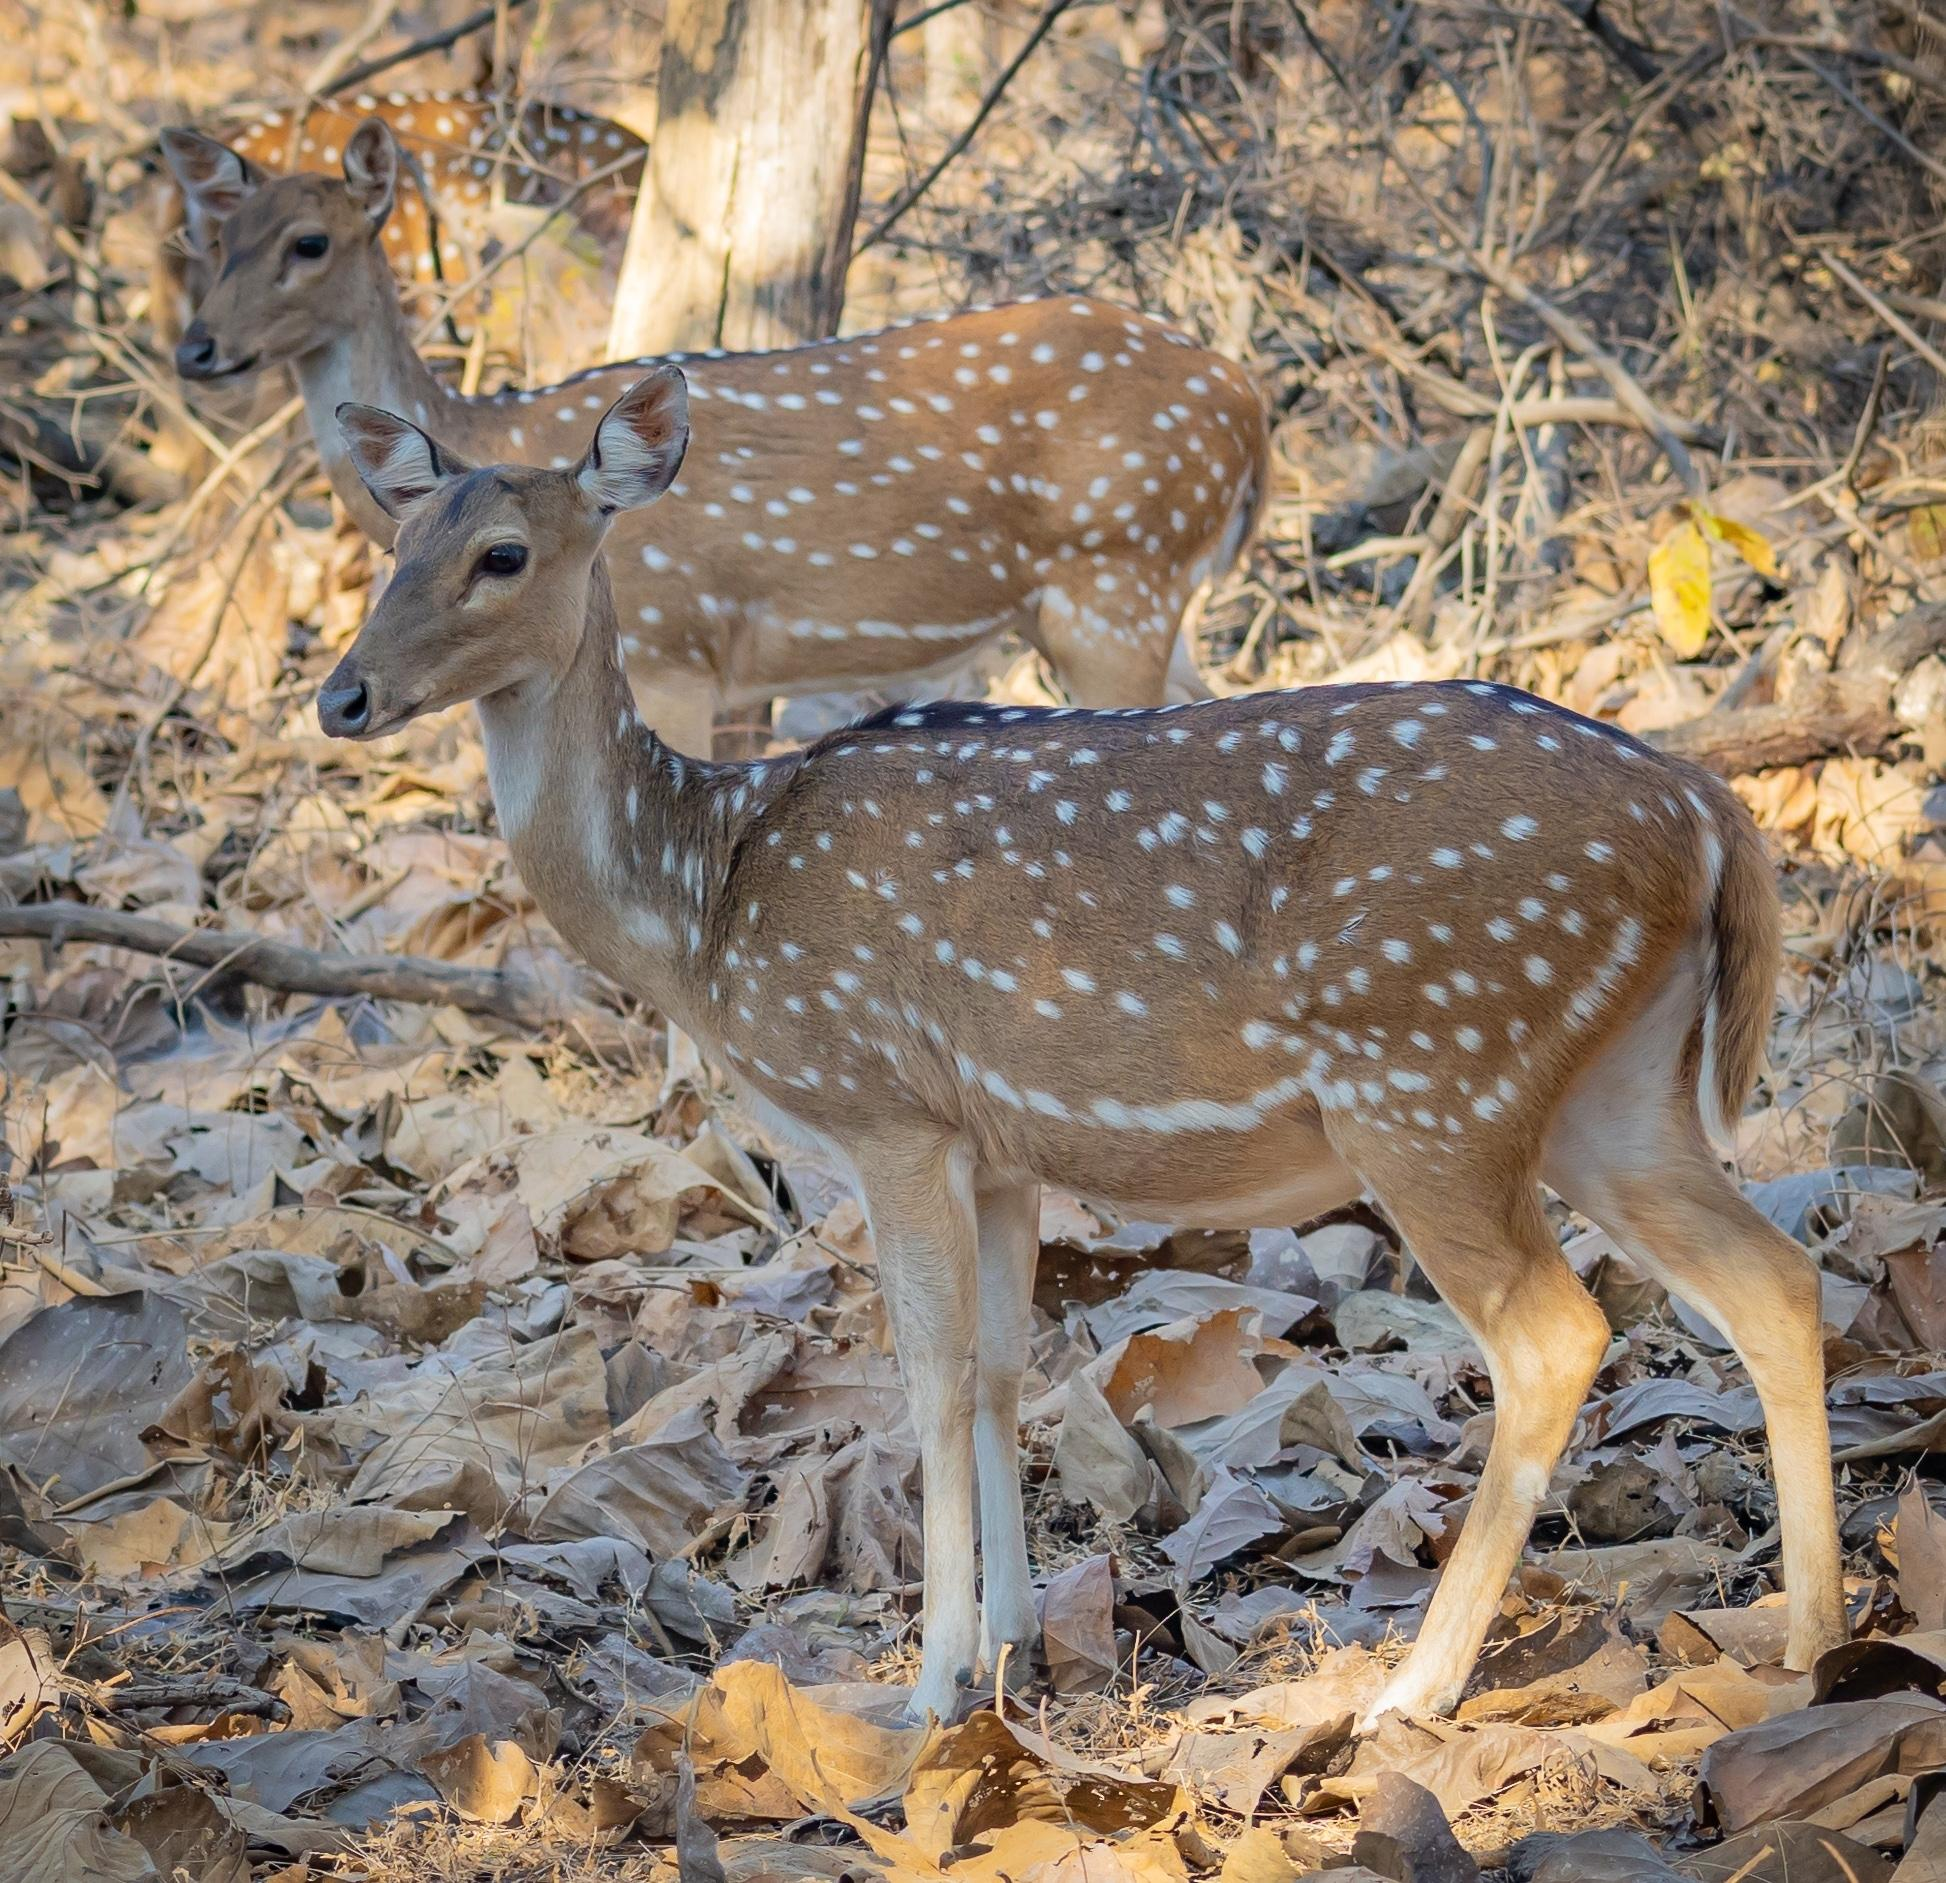Deer: (318, 368, 1840, 1716), (167, 120, 1267, 745)
